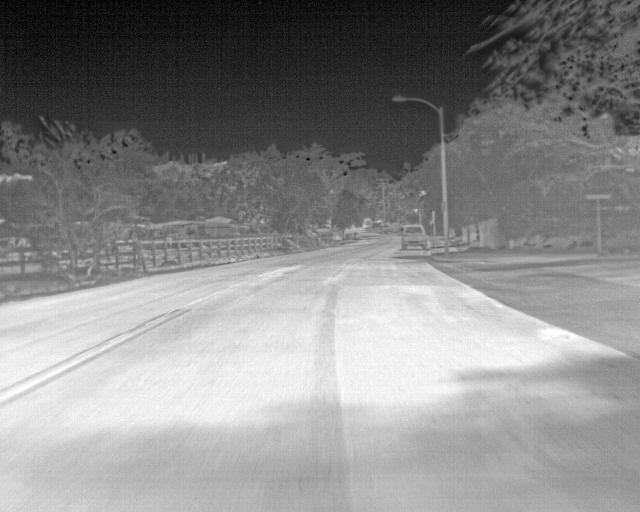car: (400, 224, 429, 251)
